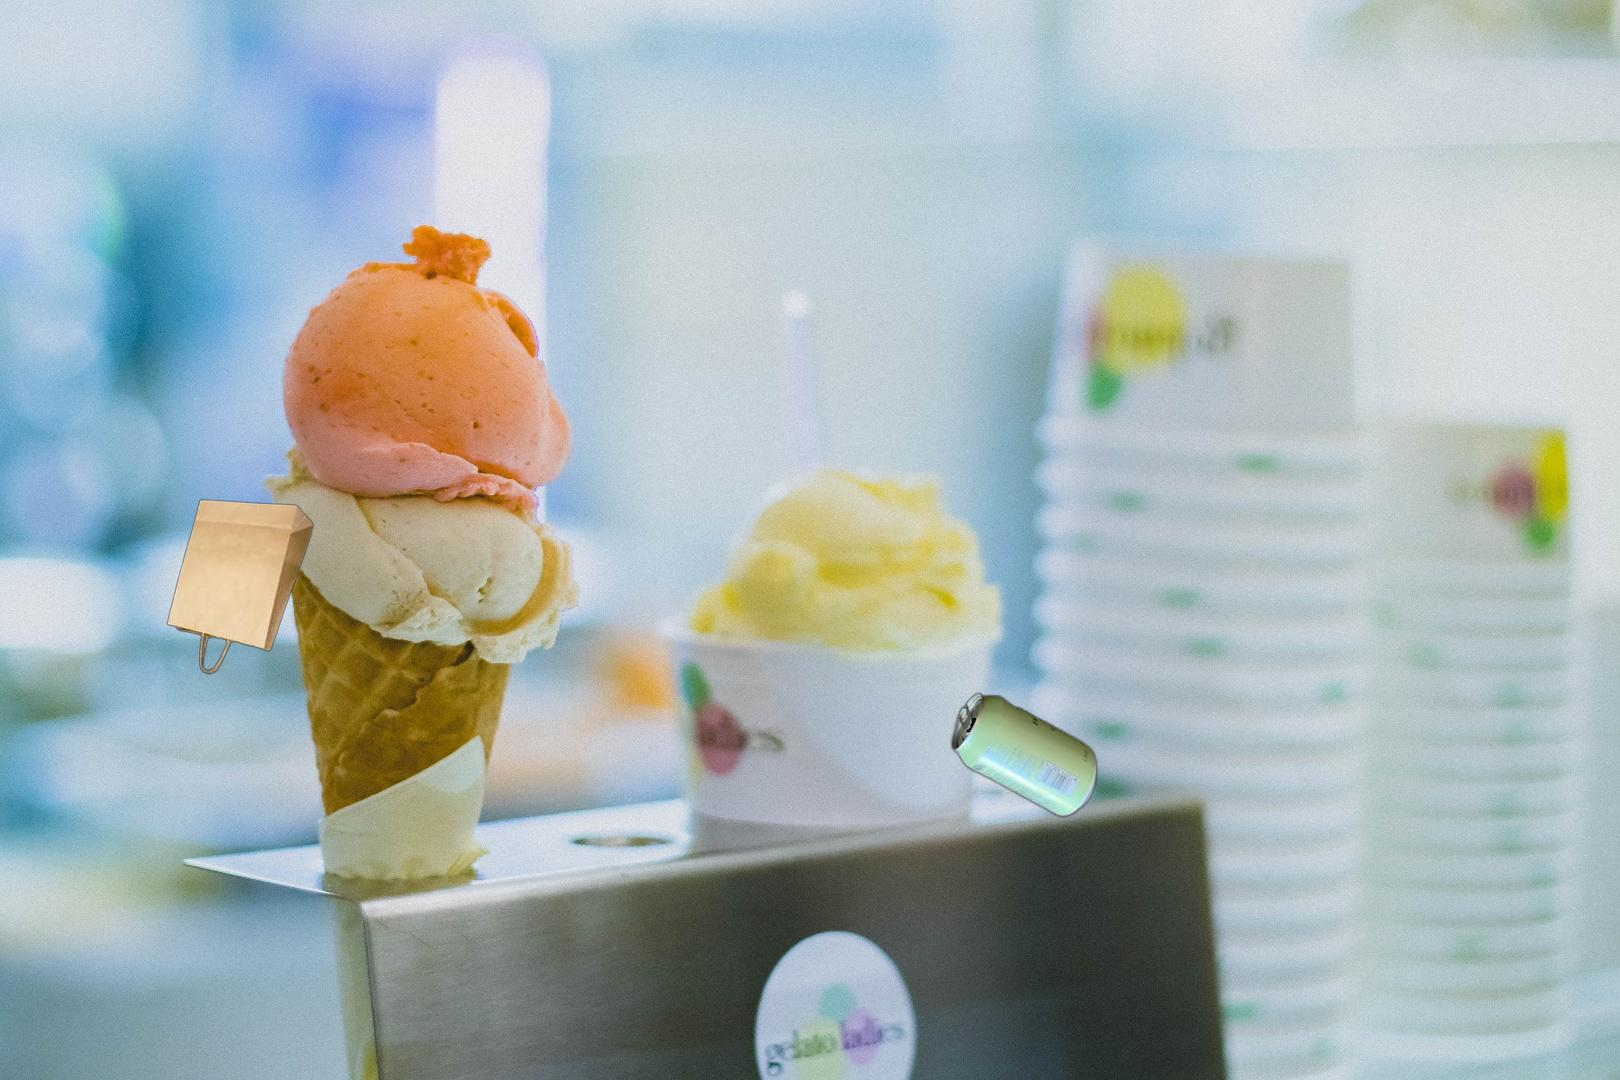metal-cans: (947, 687, 1102, 824)
paper-bag: (165, 497, 315, 677)
